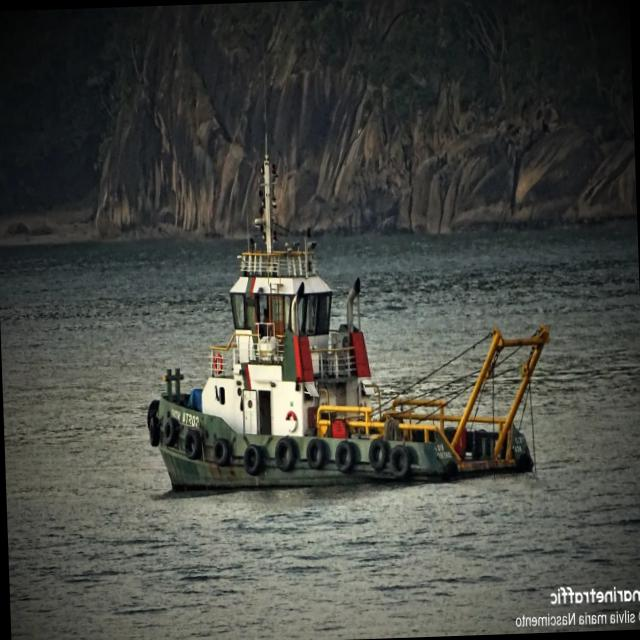Tug: (147, 155, 549, 489)
